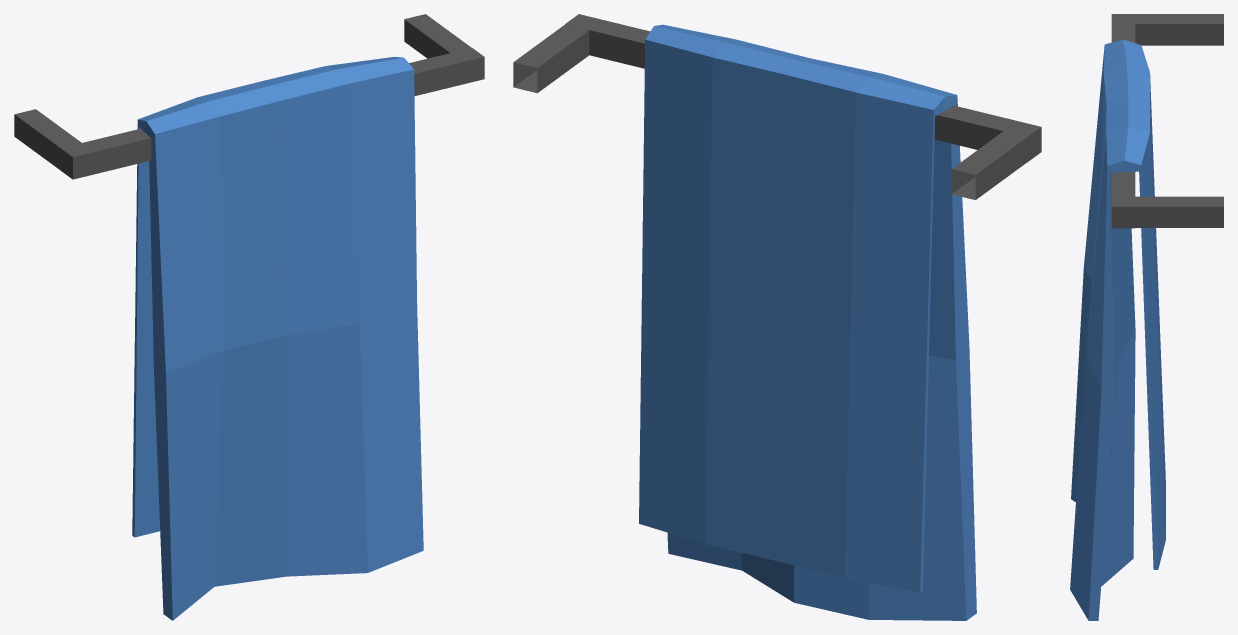
The model's file is Towel_2.fbx.
3 views of the same model, side by side, from view 1: azimuth 30°, elevation 25°; view 2: azimuth 150°, elevation 25°; view 3: azimuth 270°, elevation 25° (orthographic). The views are drawn at different scales.
Visible parts, largest first — view 1: Towel_2; view 2: Towel_2; view 3: Towel_2.
Part boxes in pixels (x1,y1,x2,y2): Towel_2: [14, 14, 484, 620]; Towel_2: [513, 14, 1041, 620]; Towel_2: [1070, 14, 1223, 620].
Size of the model in its own units: 65.35 by 22.06 by 73.17.
